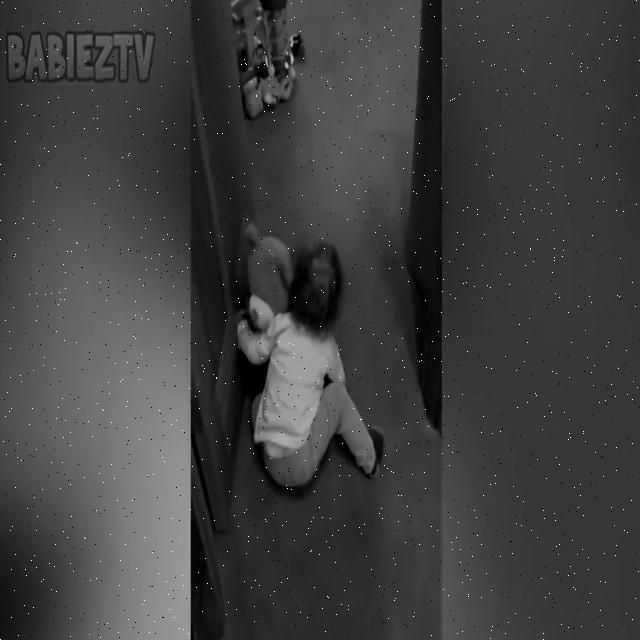child: (236, 241, 385, 494)
